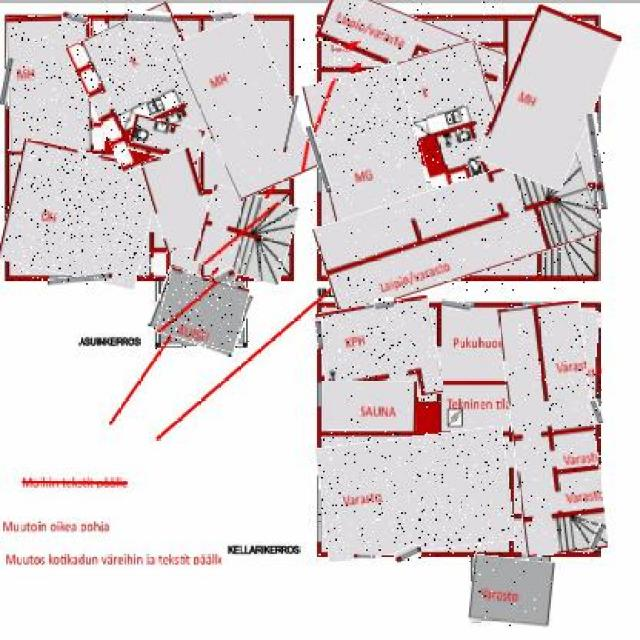window: (589, 113, 606, 210), (312, 124, 328, 194), (48, 274, 112, 284), (205, 269, 237, 288), (286, 95, 296, 154), (124, 11, 170, 23), (3, 57, 12, 105), (396, 546, 422, 562), (62, 12, 88, 26), (443, 300, 474, 311), (591, 525, 603, 552), (591, 400, 603, 425), (211, 9, 232, 22), (374, 298, 394, 310), (315, 320, 323, 349), (355, 554, 377, 558)
zone: (317, 165, 598, 297), (504, 303, 602, 555), (318, 431, 512, 557), (78, 10, 214, 164), (188, 16, 304, 196), (1, 146, 154, 282), (490, 11, 608, 186), (409, 43, 517, 232), (311, 68, 426, 235), (317, 1, 505, 90), (320, 300, 440, 408), (9, 16, 92, 152), (197, 191, 294, 280), (152, 272, 251, 351), (146, 150, 209, 252), (160, 274, 246, 348), (548, 308, 597, 432), (469, 557, 554, 626), (321, 382, 417, 431), (129, 118, 203, 162), (546, 471, 602, 522), (549, 430, 594, 468), (171, 249, 200, 277)
